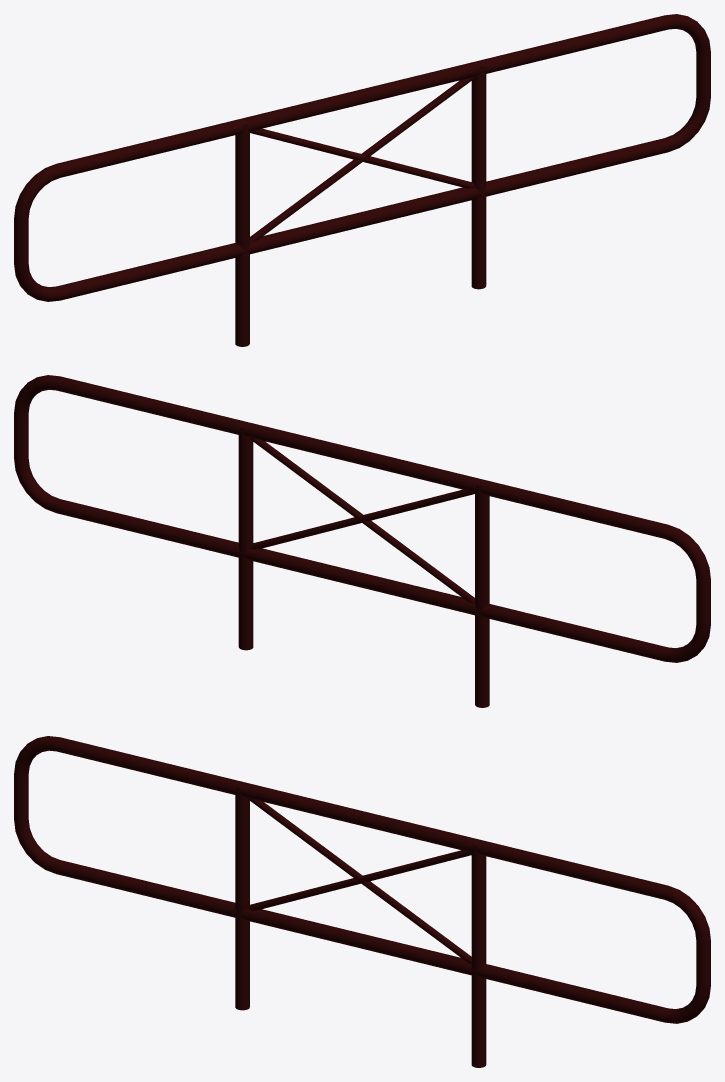
Rendered from RoadBlock.FBX.
3 renders of one model, top to bottom at view 1: azimuth 30°, elevation 25°; view 2: azimuth 150°, elevation 25°; view 3: azimuth 330°, elevation 25°, orthographic.
Visible parts, largest first — view 1: Loft001; view 2: Loft001; view 3: Loft001.
Part boxes in pixels (<box>): Loft001: <box>14,14,710,346</box>; Loft001: <box>14,375,710,707</box>; Loft001: <box>14,736,710,1067</box>.
Size of the model in its own units: 656 by 203 by 12.
